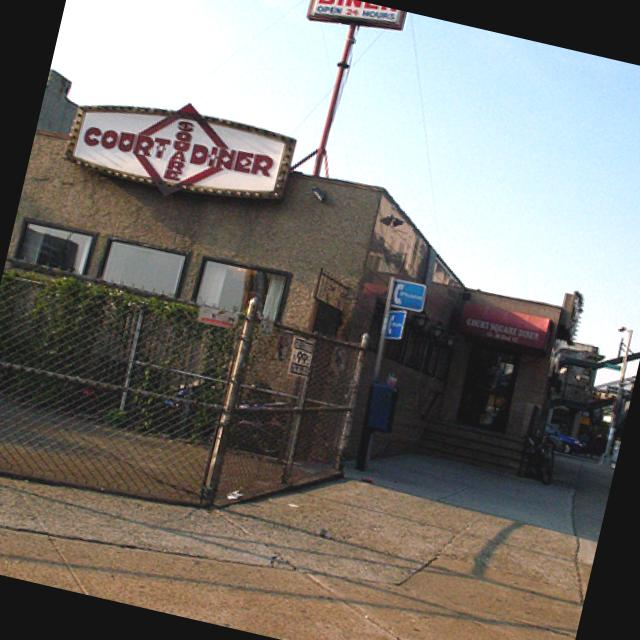Vehicle: (552, 434, 586, 457)
